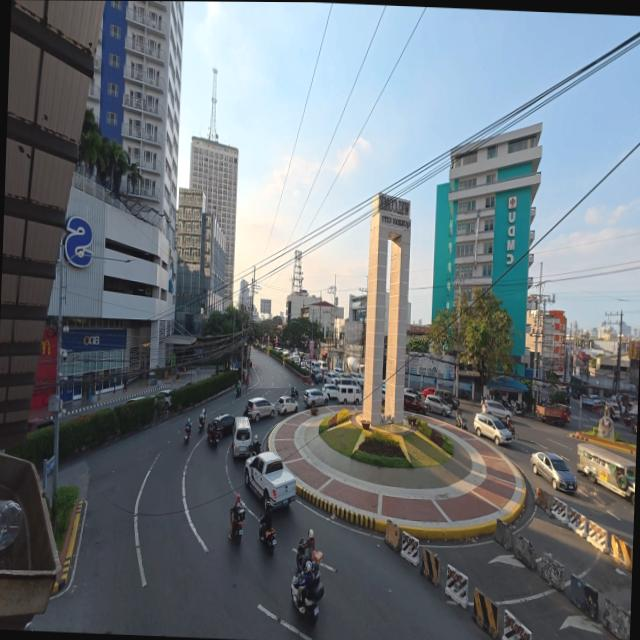Jeepneys: (577, 443, 635, 505)
car: (530, 452, 576, 491), (473, 414, 511, 446), (422, 387, 459, 408), (245, 397, 274, 421), (482, 400, 511, 422), (424, 395, 451, 416), (403, 392, 426, 414), (211, 415, 233, 437), (303, 388, 328, 406), (434, 390, 459, 408), (275, 396, 298, 414), (26, 418, 52, 431), (602, 400, 619, 419), (155, 389, 171, 409), (322, 384, 338, 400), (581, 395, 600, 408), (124, 395, 145, 404), (310, 372, 323, 385), (403, 388, 420, 397), (323, 373, 337, 383), (355, 375, 363, 389), (380, 382, 385, 402), (333, 367, 343, 376), (320, 362, 327, 372), (281, 350, 289, 357), (249, 359, 251, 367), (635, 428, 636, 434)
motorcycle: (290, 570, 323, 623), (296, 537, 310, 571), (231, 507, 244, 543), (259, 527, 275, 553), (206, 424, 219, 447), (512, 403, 524, 417), (456, 415, 466, 430), (250, 441, 260, 455), (508, 425, 518, 439), (183, 425, 190, 443), (198, 416, 204, 432), (289, 389, 297, 398), (235, 388, 240, 398)
trucks: (244, 453, 295, 508), (535, 404, 570, 426)
vans: (232, 416, 252, 458), (335, 379, 360, 405)
